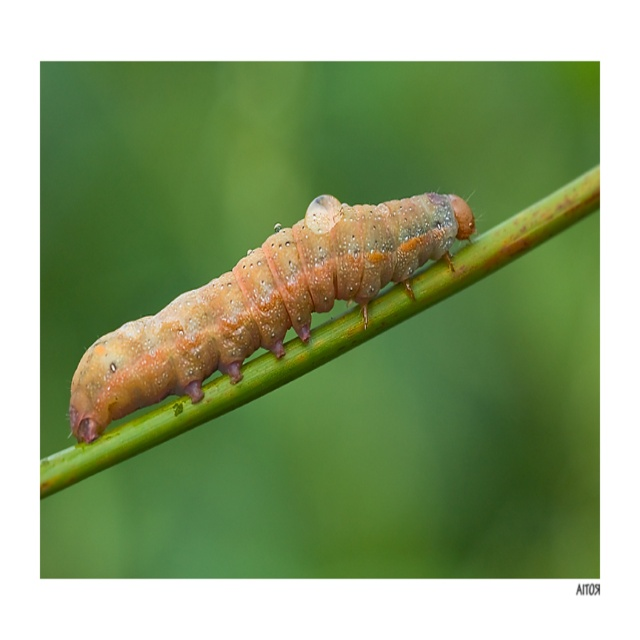Caterpillar: (67, 192, 482, 443)
